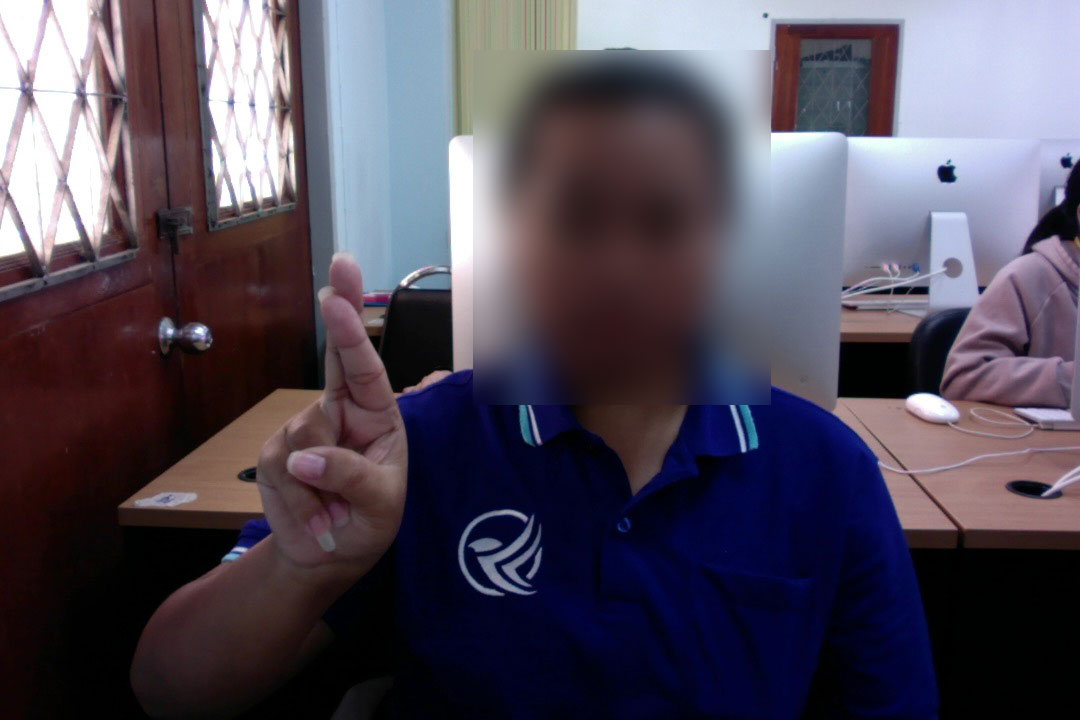rao: (242, 251, 413, 568)
